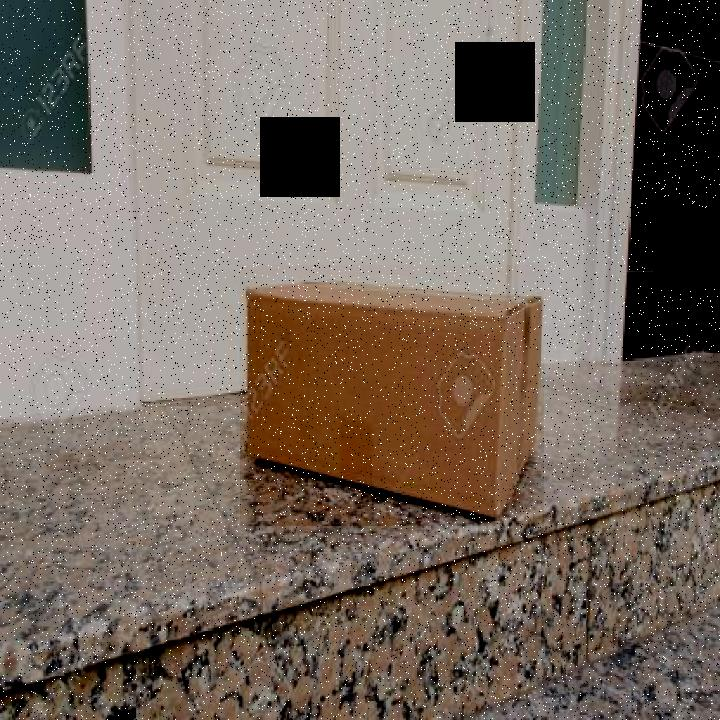box: (240, 265, 544, 526)
